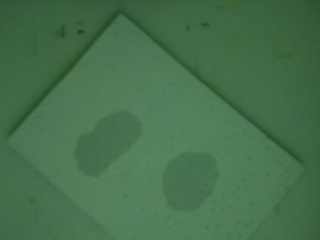Water_detected: (80, 119, 136, 166), (171, 154, 214, 205)
